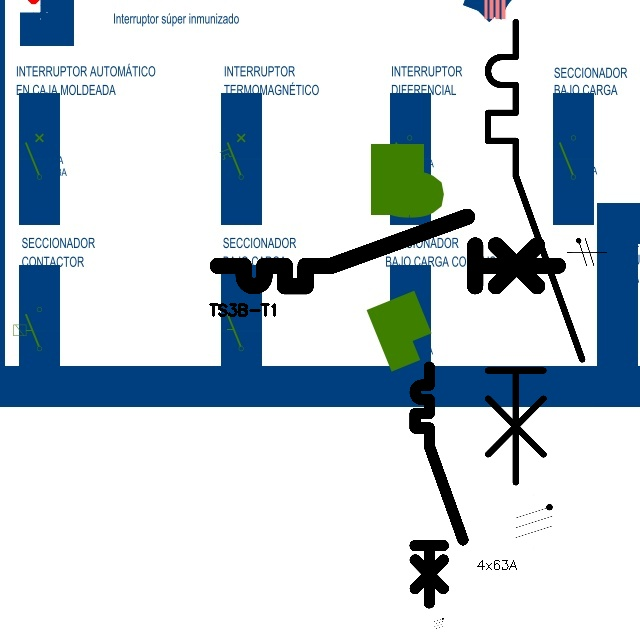interruptor_termomagnetico: (476, 10, 594, 494), (209, 208, 567, 295), (409, 361, 469, 609)
